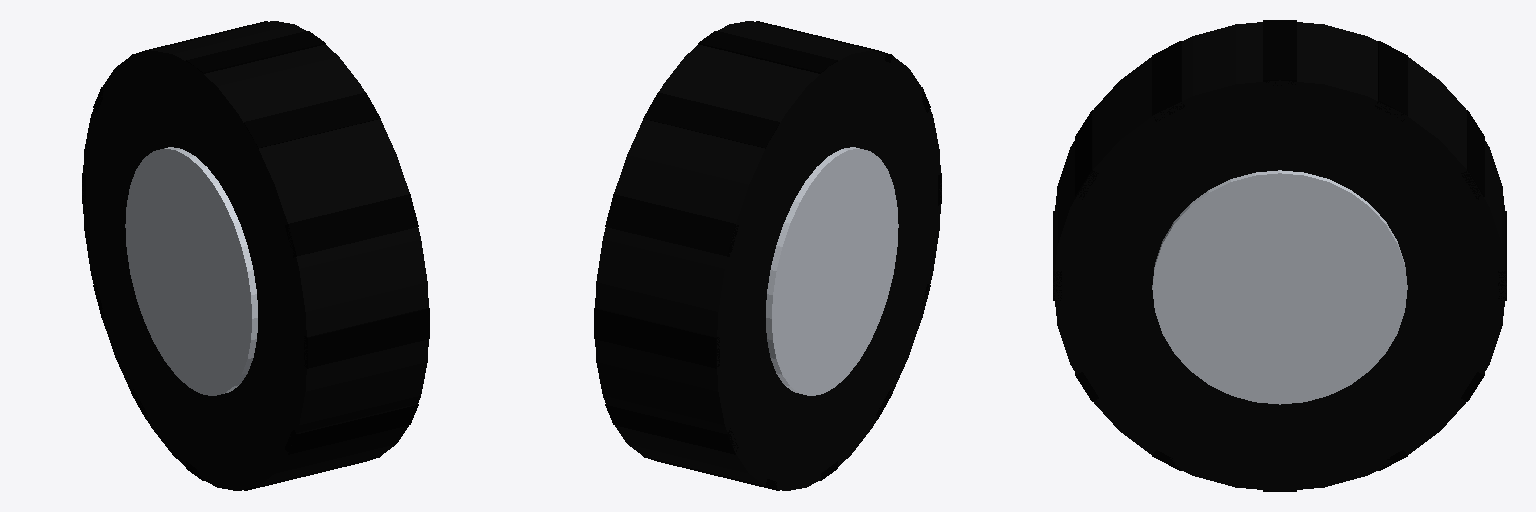
The robot description file, URDF, robot "wheel_robot":
<?xml version="1.0"?>
<robot name="wheel_robot">

	<material name="tire">
		<color rgba="0.06 0.06 0.06 1.0"/>
	</material>

	<material name="tire_rib">
		<color rgba="0.03 0.03 0.03 1.0"/>
	</material>

	<material name="rim">
		<color rgba="0.80 0.82 0.85 1.0"/>
	</material>

	<link name="wheel">
		<visual>
			<origin xyz="0 0 1.60000" rpy="0 1.5707963 0"/>
			<geometry>
				<cylinder radius="1.600" length="1.00"/>
			</geometry>
			<material name="tire"/>
		</visual>

		<visual>
			<origin xyz="0 1.57000 1.60000" rpy="0 0 0"/>
			<geometry>
				<box size="1.000 0.060 0.240"/>
			</geometry>
			<material name="tire_rib"/>
		</visual>

		<visual>
			<origin xyz="0 1.35970 2.38500" rpy="0.5235988 0 0"/>
			<geometry>
				<box size="1.000 0.060 0.240"/>
			</geometry>
			<material name="tire_rib"/>
		</visual>

		<visual>
			<origin xyz="0 0.78500 2.95970" rpy="1.0471976 0 0"/>
			<geometry>
				<box size="1.000 0.060 0.240"/>
			</geometry>
			<material name="tire_rib"/>
		</visual>

		<visual>
			<origin xyz="0 0.00000 3.17000" rpy="1.5707963 0 0"/>
			<geometry>
				<box size="1.000 0.060 0.240"/>
			</geometry>
			<material name="tire_rib"/>
		</visual>

		<visual>
			<origin xyz="0 -0.78500 2.95970" rpy="2.0943951 0 0"/>
			<geometry>
				<box size="1.000 0.060 0.240"/>
			</geometry>
			<material name="tire_rib"/>
		</visual>

		<visual>
			<origin xyz="0 -1.35970 2.38500" rpy="2.6179939 0 0"/>
			<geometry>
				<box size="1.000 0.060 0.240"/>
			</geometry>
			<material name="tire_rib"/>
		</visual>

		<visual>
			<origin xyz="0 -1.57000 1.60000" rpy="3.1415927 0 0"/>
			<geometry>
				<box size="1.000 0.060 0.240"/>
			</geometry>
			<material name="tire_rib"/>
		</visual>

		<visual>
			<origin xyz="0 -1.35970 0.81500" rpy="-2.6179939 0 0"/>
			<geometry>
				<box size="1.000 0.060 0.240"/>
			</geometry>
			<material name="tire_rib"/>
		</visual>

		<visual>
			<origin xyz="0 -0.78500 0.24030" rpy="-2.0943951 0 0"/>
			<geometry>
				<box size="1.000 0.060 0.240"/>
			</geometry>
			<material name="tire_rib"/>
		</visual>

		<visual>
			<origin xyz="0 0.00000 0.03000" rpy="-1.5707963 0 0"/>
			<geometry>
				<box size="1.000 0.060 0.240"/>
			</geometry>
			<material name="tire_rib"/>
		</visual>

		<visual>
			<origin xyz="0 0.78500 0.24030" rpy="-1.0471976 0 0"/>
			<geometry>
				<box size="1.000 0.060 0.240"/>
			</geometry>
			<material name="tire_rib"/>
		</visual>

		<visual>
			<origin xyz="0 1.35970 0.81500" rpy="-0.5235988 0 0"/>
			<geometry>
				<box size="1.000 0.060 0.240"/>
			</geometry>
			<material name="tire_rib"/>
		</visual>

		<visual>
			<origin xyz="0 0 1.60000" rpy="0 1.5707963 0"/>
			<geometry>
				<cylinder radius="0.90" length="1.10"/>
			</geometry>
			<material name="rim"/>
		</visual>

		<collision>
			<origin xyz="0 0 1.60000" rpy="0 1.5707963 0"/>
			<geometry>
				<cylinder radius="1.60" length="1.00"/>
			</geometry>
		</collision>

		<inertial>
			<origin xyz="0 0 1.60000" rpy="0 0 0"/>
			<mass value="1.8"/>
			<inertia ixx="0.012" ixy="0" ixz="0" iyy="0.020" iyz="0" izz="0.020"/>
		</inertial>
	</link>

</robot>

--- Facts derived from the render (not from the file) ---
Views: 3 orthographic renders of the robot side by side, from view 1: azimuth 30°, elevation 25°; view 2: azimuth 150°, elevation 25°; view 3: azimuth 270°, elevation 25°.
Model wheel_robot with 1 links and 0 joints (none), rooted at wheel, posed all joints at 0.
Visible links, largest first — view 1: wheel; view 2: wheel; view 3: wheel.
Link boxes in pixels (<box>): wheel: <box>82,21,429,490</box>; wheel: <box>594,21,941,490</box>; wheel: <box>1053,20,1506,491</box>.
Size in the robot's own frame: 1.1 by 3.2 by 3.2 metres.
Geometry: primitives only (box / cylinder / sphere), no mesh files.
